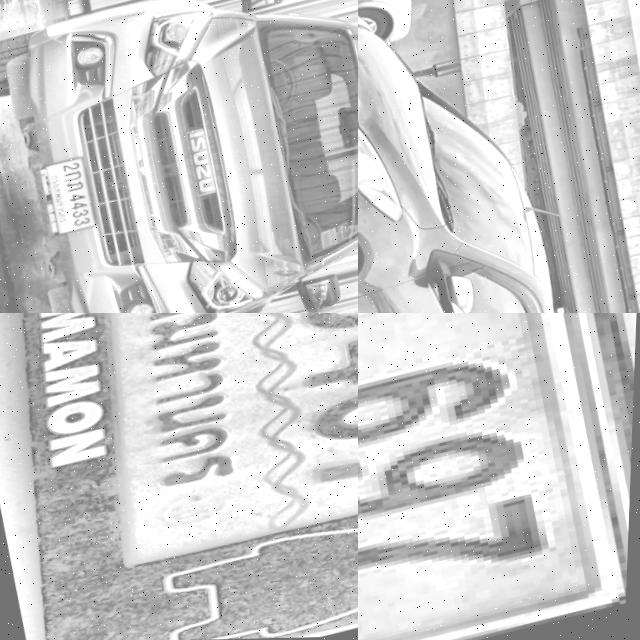license-plate: (0, 313, 358, 640), (358, 313, 640, 640), (29, 150, 110, 245)
